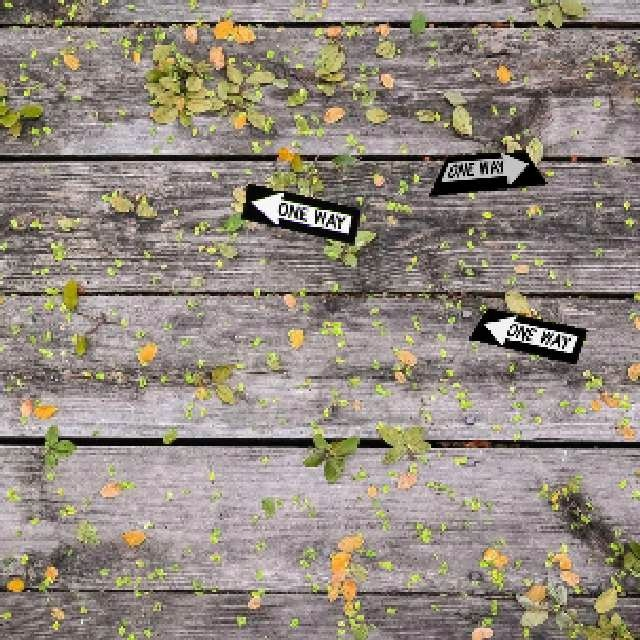ONE_WAY_ left: (239, 181, 359, 243), (466, 306, 586, 363)
ONE_WAY_ right: (426, 148, 546, 195)
